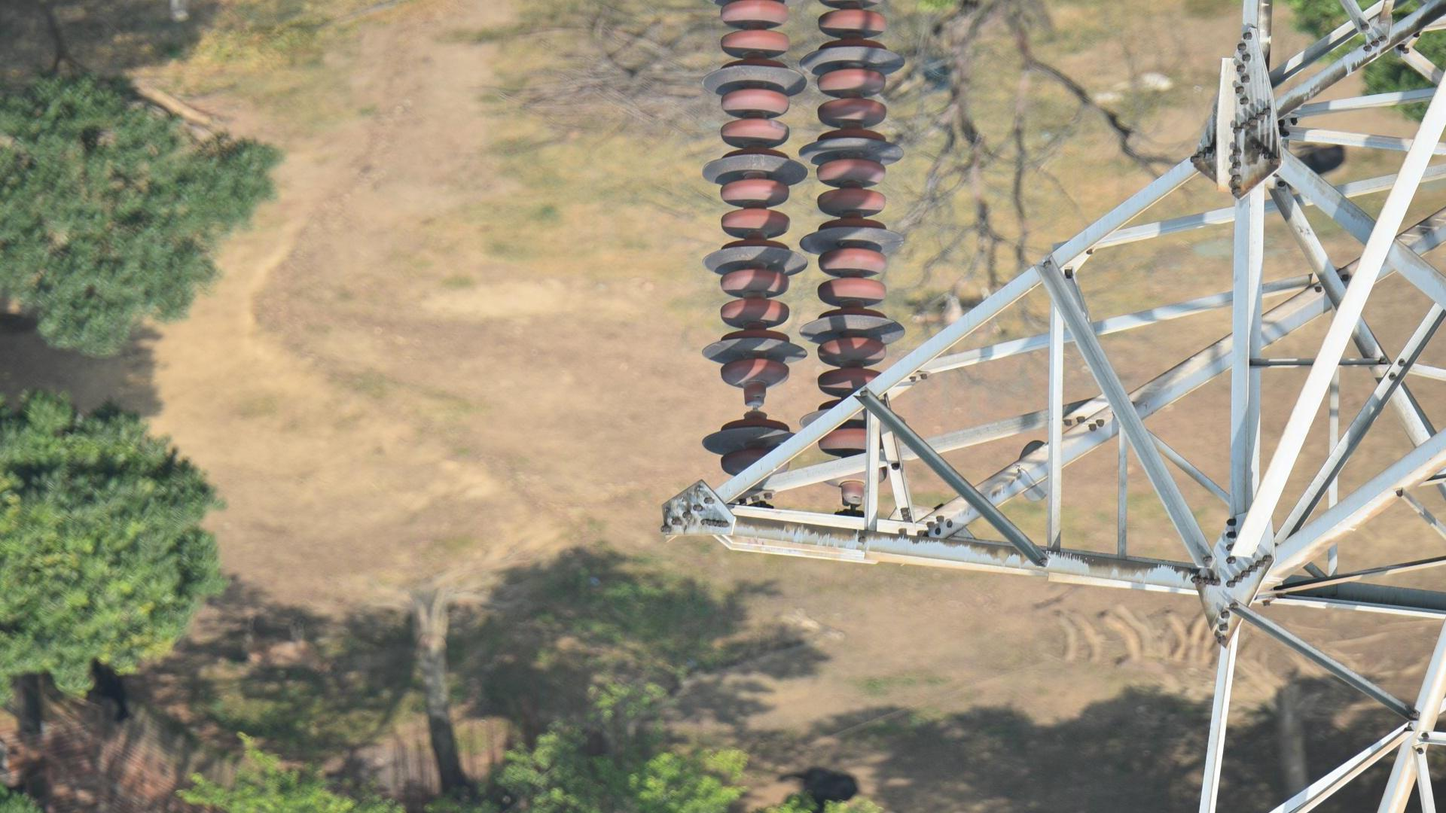insulator: (694, 1, 802, 478), (802, 1, 909, 474)
insulator_stringdrop: (716, 354, 797, 436)
